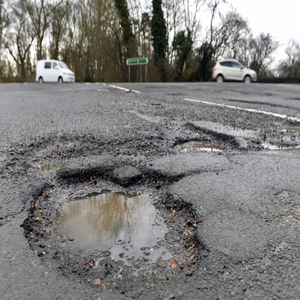pothole: (26, 168, 208, 289), (15, 135, 241, 157)
